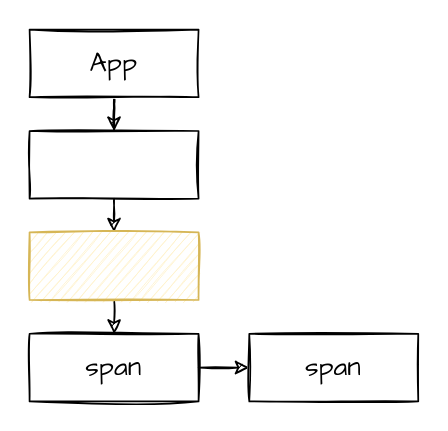
The diagram is 448 pixels wide and 431 high, and some of its shapes have lost their labels. Here are the shapes that lost their labels. From the top down, the centre of each, then its label:
At point 113,164: "div".
At point 113,265: "Fragment".
